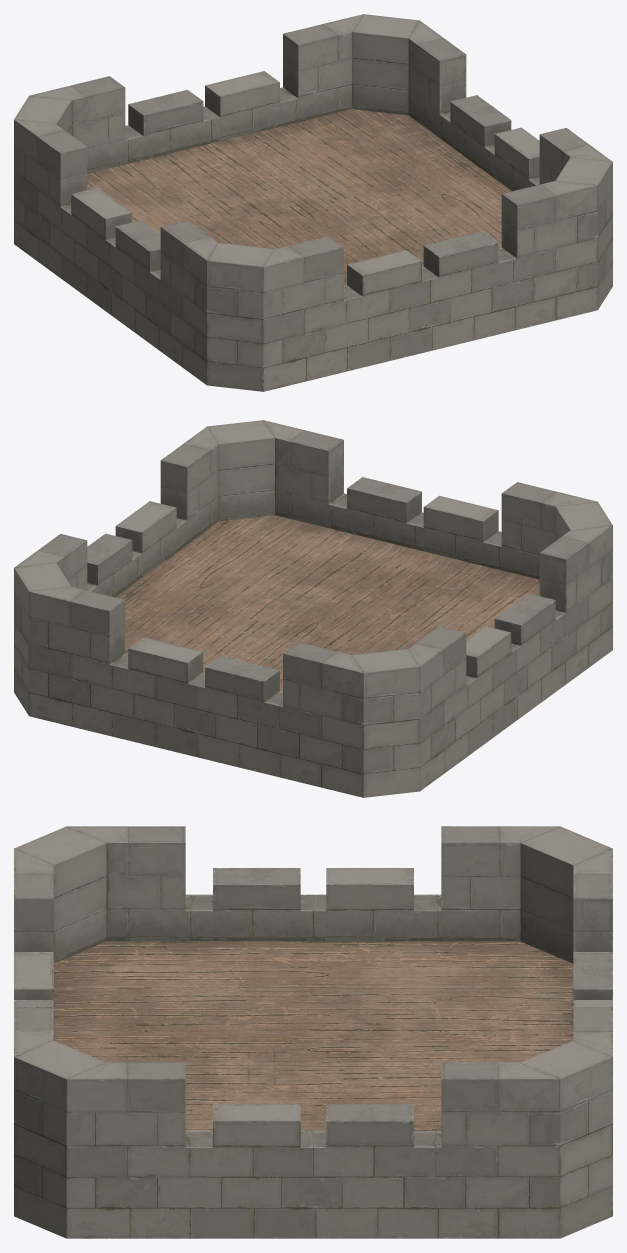
File: FortBTop.fbx
3 views of the same model, one above another, from view 1: azimuth 30°, elevation 25°; view 2: azimuth 150°, elevation 25°; view 3: azimuth 270°, elevation 25° (orthographic). The views are drawn at different scales.
Visible parts, largest first — view 1: FortBTop; view 2: FortBTop; view 3: FortBTop.
Boxes of the visible parts, left/top/right/bottom form: FortBTop: left=14, top=14, right=612, bottom=391; FortBTop: left=14, top=420, right=612, bottom=797; FortBTop: left=14, top=826, right=612, bottom=1238.
Bounding box in the file's own units: 576 × 169 × 576.
Materials: 1 (1 with a texture image).
